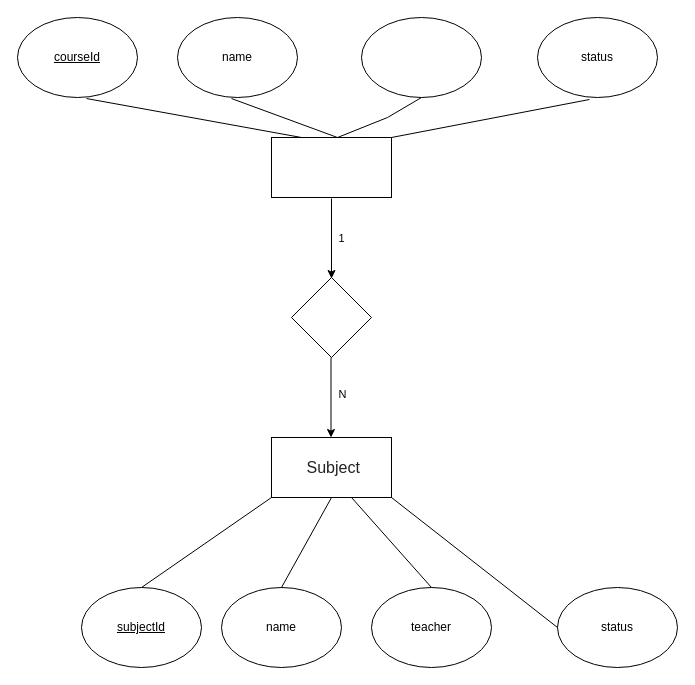
This 695x685 diagram has some shape labels left out. Here are the shapes that lost their labels. From the top down, the centre of each, then its label:
At point 421,57: "time".
At point 331,167: "Course".
At point 331,317: "Có".
